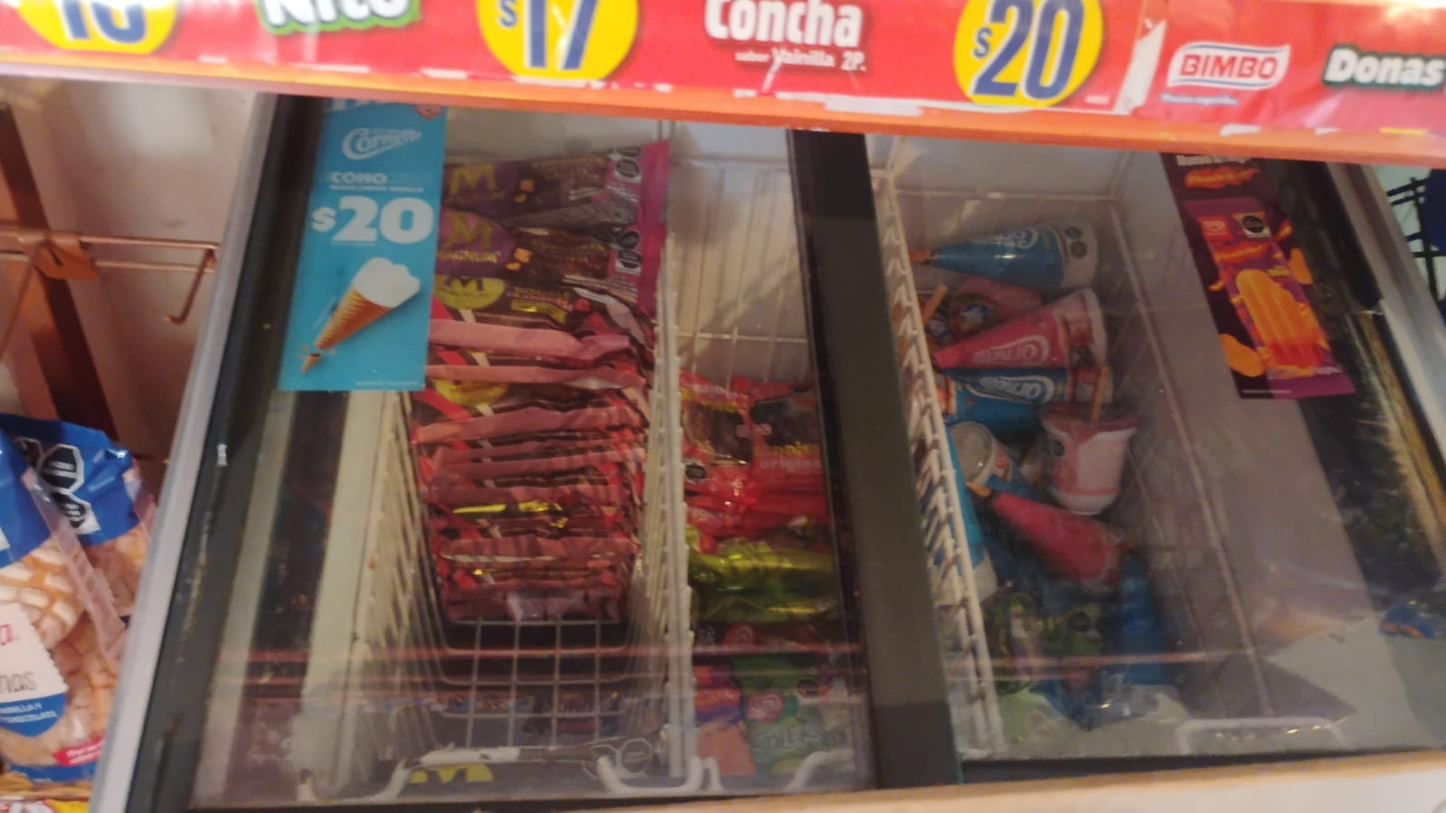rejilla: (1110, 205, 1271, 714), (888, 181, 1004, 742), (340, 393, 395, 778), (668, 262, 688, 630), (668, 489, 678, 774), (897, 190, 1113, 198), (683, 633, 695, 755), (674, 159, 787, 167), (871, 171, 890, 176)
